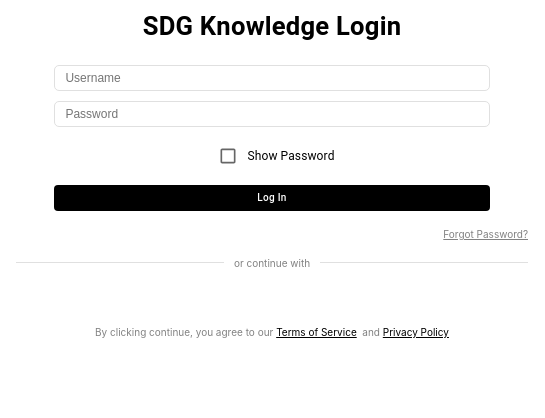
Test: CreateLoginForm › should allow the user to login
Click the button "Log In" at (272, 198), box x1=54 y1=185 x2=490 y2=211
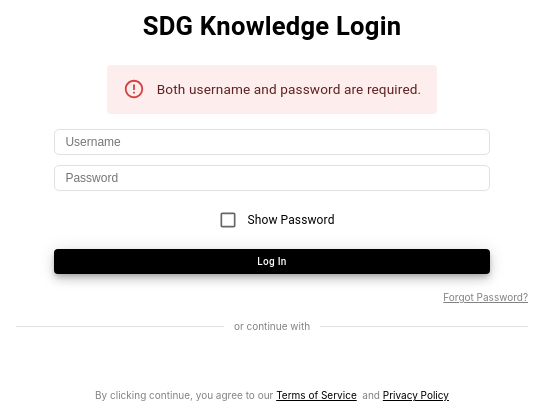
Expected: the text "Both username and password are required." is shown, x1=157 y1=79 x2=421 y2=100
